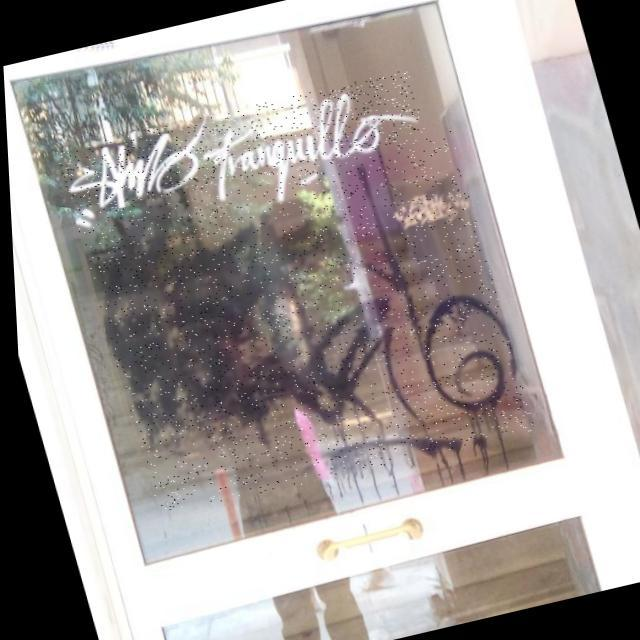-: (69, 130, 534, 518), (51, 68, 436, 248), (384, 181, 472, 237)
